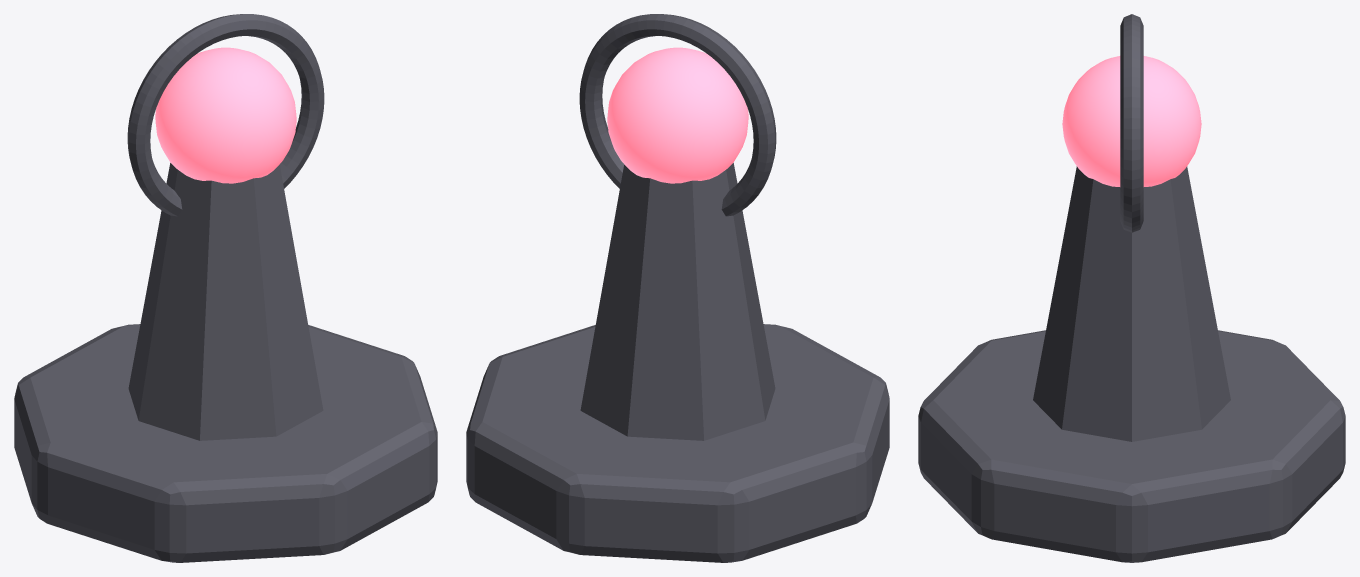
The model's file is emitter.glb.
3 renders of one model, left to right at view 1: azimuth 30°, elevation 25°; view 2: azimuth 150°, elevation 25°; view 3: azimuth 270°, elevation 25°, orthographic.
Visible parts, largest first — view 1: Cylinder; view 2: Cylinder; view 3: Cylinder.
Boxes of the visible parts, x1,y1,x2,y2 form: Cylinder: (14,14,437,562); Cylinder: (466,14,889,562); Cylinder: (918,14,1345,562).
Bounding box in the file's own units: 1.47 × 1.73 × 1.47.
